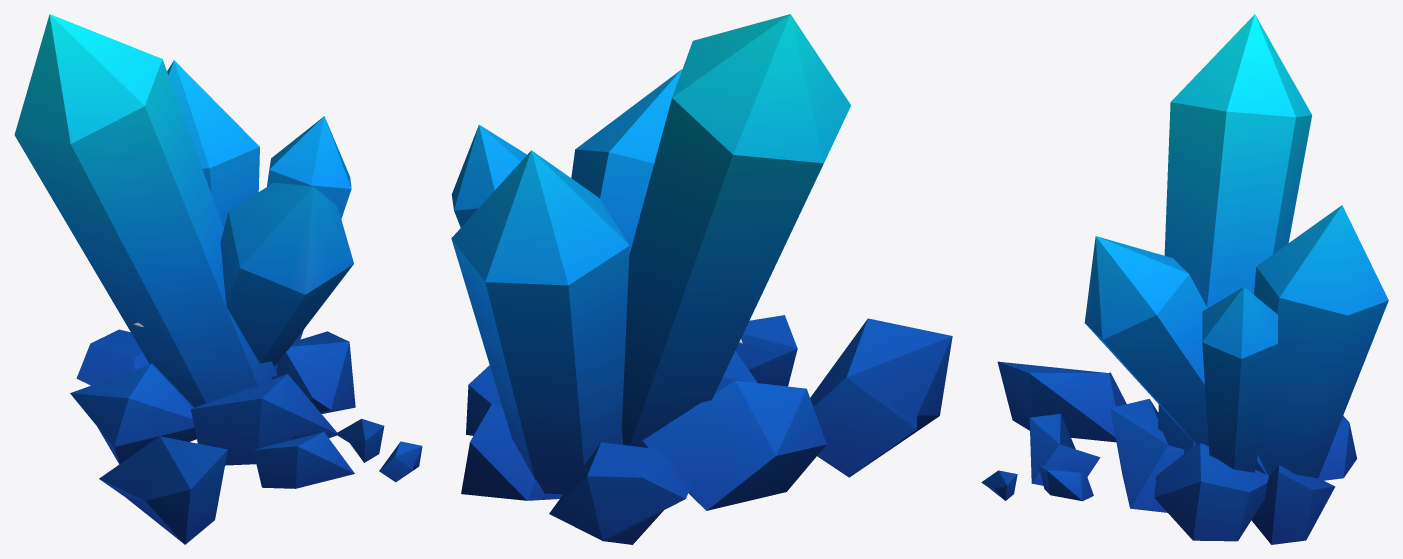
File: M_Diamond.fbx
The picture shows the model from 3 angles, left to right: view 1: azimuth 30°, elevation 25°; view 2: azimuth 150°, elevation 25°; view 3: azimuth 270°, elevation 25°; orthographic projection. The views are drawn at different scales.
Visible parts, largest first — view 1: M_Star_3; view 2: M_Star_3; view 3: M_Star_3.
Boxes of the visible parts, x1,y1,x2,y2 form: M_Star_3: (14, 14, 422, 544); M_Star_3: (451, 14, 952, 544); M_Star_3: (981, 14, 1388, 544).
Size of the model in its own units: 110 by 147 by 129.
